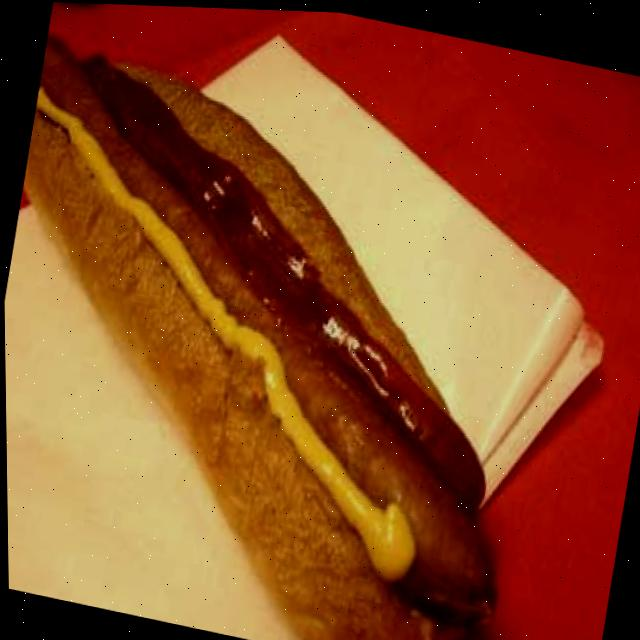汉堡快餐: (0, 31, 555, 640)
